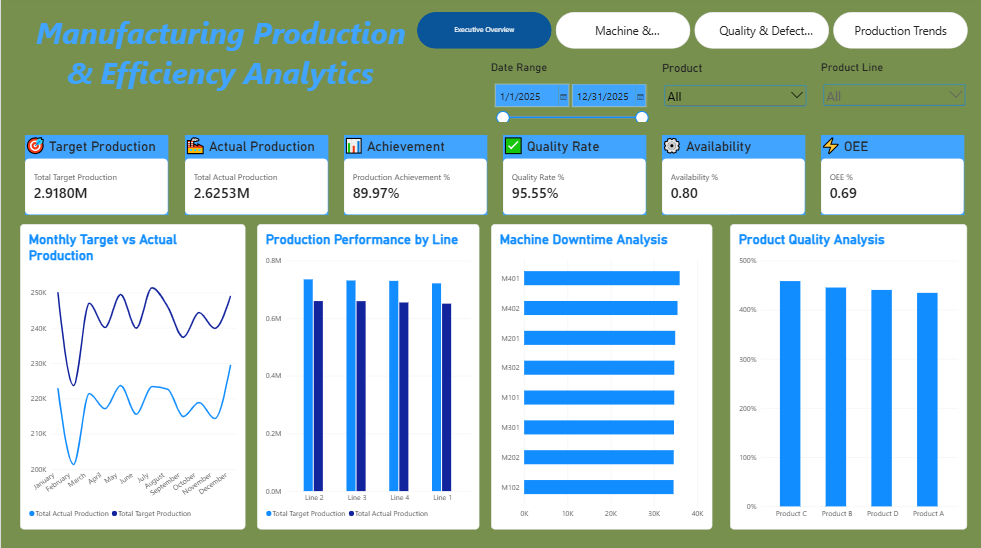

The page's visual inventory and layout, read from the dashboard file:
{"tool":"powerbi","page":{"name":"Executive Overview","canvas":[1920,1080],"ordinal":0},"visuals":[{"type":"cardVisual","title":" ⚙️ Availability","fields":{"Data":["manufacturing_production_data.Availability %"]},"box":[1296,264,280.8,156.9],"z":0},{"type":"cardVisual","title":"🎯 Target Production","fields":{"Data":["manufacturing_production_data.Total Target Production"]},"box":[48,264,280.8,156.9],"z":1000},{"type":"cardVisual","title":"📊 Achievement","fields":{"Data":["manufacturing_production_data.Production Achievement %"]},"box":[672,264,280.8,156.9],"z":2000},{"type":"cardVisual","title":"⚡ OEE","fields":{"Data":["manufacturing_production_data.OEE %"]},"box":[1608,264,280.8,156.9],"z":3000},{"type":"cardVisual","title":"✅ Quality Rate","fields":{"Data":["manufacturing_production_data.Quality Rate %"]},"box":[984,264,280.8,156.9],"z":4000},{"type":"cardVisual","title":"🏭 Actual Production","fields":{"Data":["manufacturing_production_data.Total Actual Production"]},"box":[360,264,280.8,156.9],"z":5000},{"type":"lineChart","title":"Monthly Target vs Actual Production","fields":{"Category":["manufacturing_production_data.Date.Variation.Date Hierarchy.Month"],"Y":["manufacturing_production_data.Total Actual Production","manufacturing_production_data.Total Target Production"]},"box":[37.2,439.7,441.8,598.7],"z":6000},{"type":"clusteredColumnChart","title":"Production Performance by Line","fields":{"Category":["manufacturing_production_data.Production_Line"],"Y":["manufacturing_production_data.Total Target Production","manufacturing_production_data.Total Actual Production"]},"box":[501.7,439.7,435.6,598.7],"z":7000},{"type":"barChart","title":"Machine Downtime Analysis","fields":{"Category":["manufacturing_production_data.Machine_ID"],"Y":["Sum(manufacturing_production_data.Downtime_Minutes)"]},"box":[960,439.7,433.5,598.7],"z":8000},{"type":"clusteredColumnChart","title":"Product Quality Analysis","fields":{"Category":["manufacturing_production_data.Product"],"Y":["manufacturing_production_data.Defect Rate %"]},"box":[1428.6,439.7,464.5,598.7],"z":9000},{"type":"slicer","title":"Date Range","fields":{"Values":["manufacturing_production_data.Date"]},"box":[960,120,312,120],"z":10000},{"type":"slicer","title":"Product Line","fields":{"Values":["manufacturing_production_data.Production_Line"]},"box":[1608,120,288,120],"z":11000},{"type":"slicer","title":"Product","fields":{"Values":["manufacturing_production_data.Product"]},"box":[1296,120,288,120],"z":12000},{"type":"textbox","box":[48,24,768,192],"z":13000},{"type":"pageNavigator","box":[816,24,1080,72],"z":13001}]}

Visuals, with their boxes in screenshot pixels (x1, y1, x2, y2), scaled from the page's 1920x1080 canvas onto the 981x548 screenshot:
" ⚙️ Availability" cardVisual: [left=662, top=134, right=806, bottom=214]
"🎯 Target Production" cardVisual: [left=25, top=134, right=168, bottom=214]
"📊 Achievement" cardVisual: [left=343, top=134, right=487, bottom=214]
"⚡ OEE" cardVisual: [left=822, top=134, right=965, bottom=214]
"✅ Quality Rate" cardVisual: [left=503, top=134, right=646, bottom=214]
"🏭 Actual Production" cardVisual: [left=184, top=134, right=327, bottom=214]
"Monthly Target vs Actual Production" lineChart: [left=19, top=223, right=245, bottom=527]
"Production Performance by Line" clusteredColumnChart: [left=256, top=223, right=479, bottom=527]
"Machine Downtime Analysis" barChart: [left=491, top=223, right=712, bottom=527]
"Product Quality Analysis" clusteredColumnChart: [left=730, top=223, right=967, bottom=527]
"Date Range" slicer: [left=491, top=61, right=650, bottom=122]
"Product Line" slicer: [left=822, top=61, right=969, bottom=122]
"Product" slicer: [left=662, top=61, right=809, bottom=122]
textbox: [left=25, top=12, right=417, bottom=110]
pageNavigator: [left=417, top=12, right=969, bottom=49]
